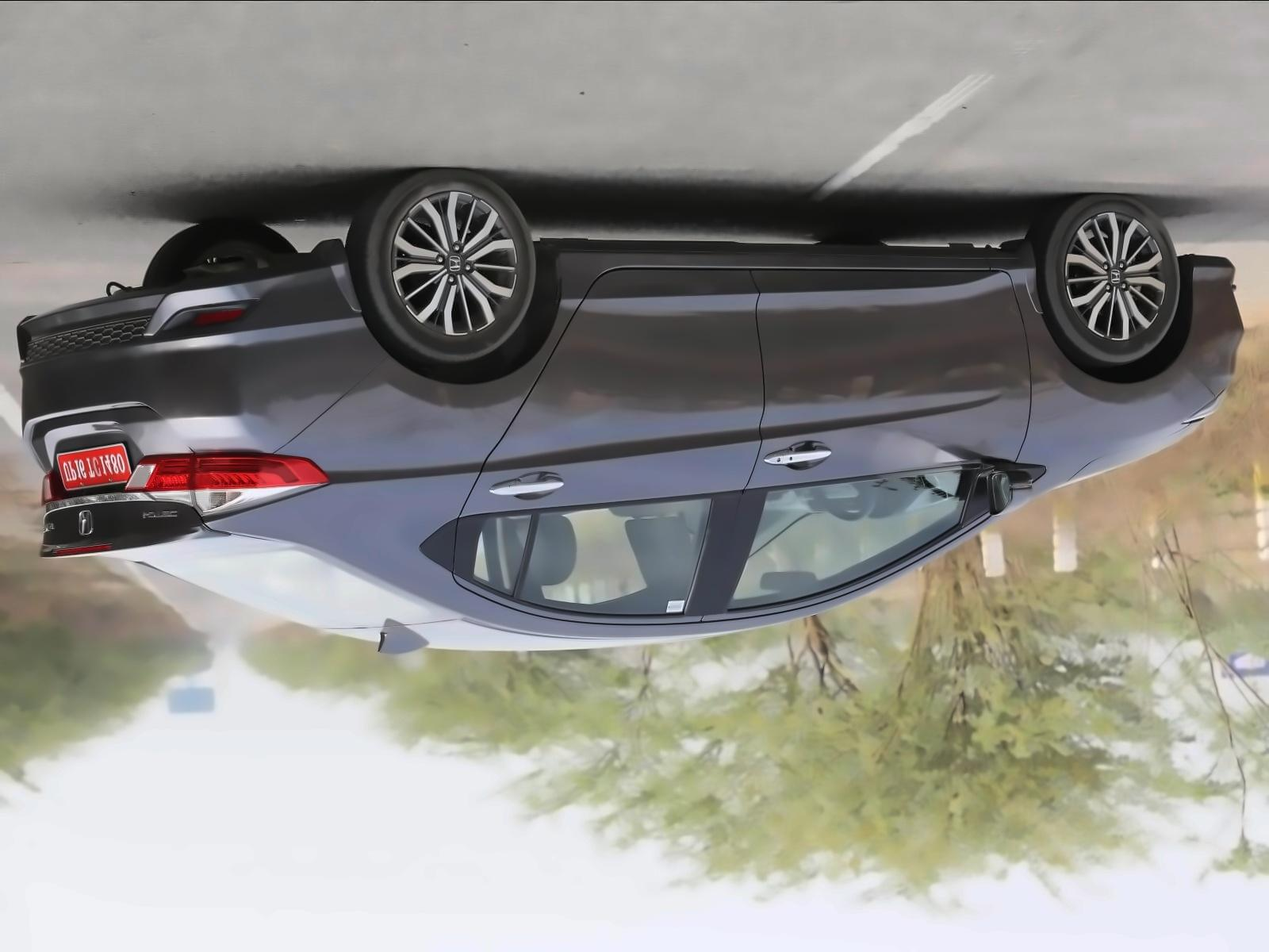Car boot: (0, 394, 283, 578)
Fender - -F-L-: (983, 262, 1208, 498)
Fender - -R-L-: (144, 313, 579, 617)
Front bumper: (1160, 243, 1241, 412)
Passenger-s door - -F-L-: (698, 194, 1039, 655)
Passenger-s door - -R-L-: (435, 210, 763, 660)
Rear bumper: (19, 246, 392, 481)
Rear light - -L-: (184, 446, 335, 521)
Side bumper - -L-: (524, 202, 1060, 359)
Side mirror - -L-: (958, 462, 1014, 524)
